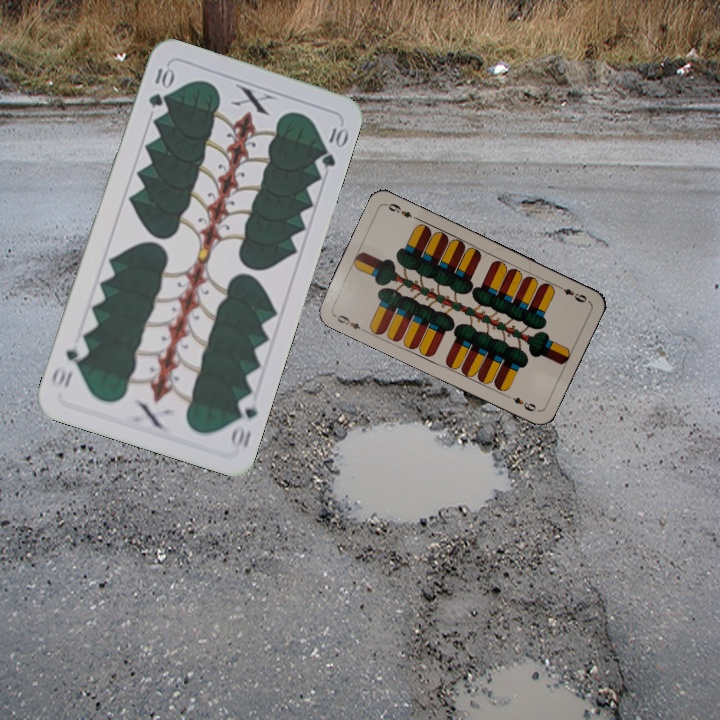E9: (330, 311, 368, 334), (553, 281, 589, 305)
G10: (226, 392, 260, 452), (144, 62, 175, 111)
